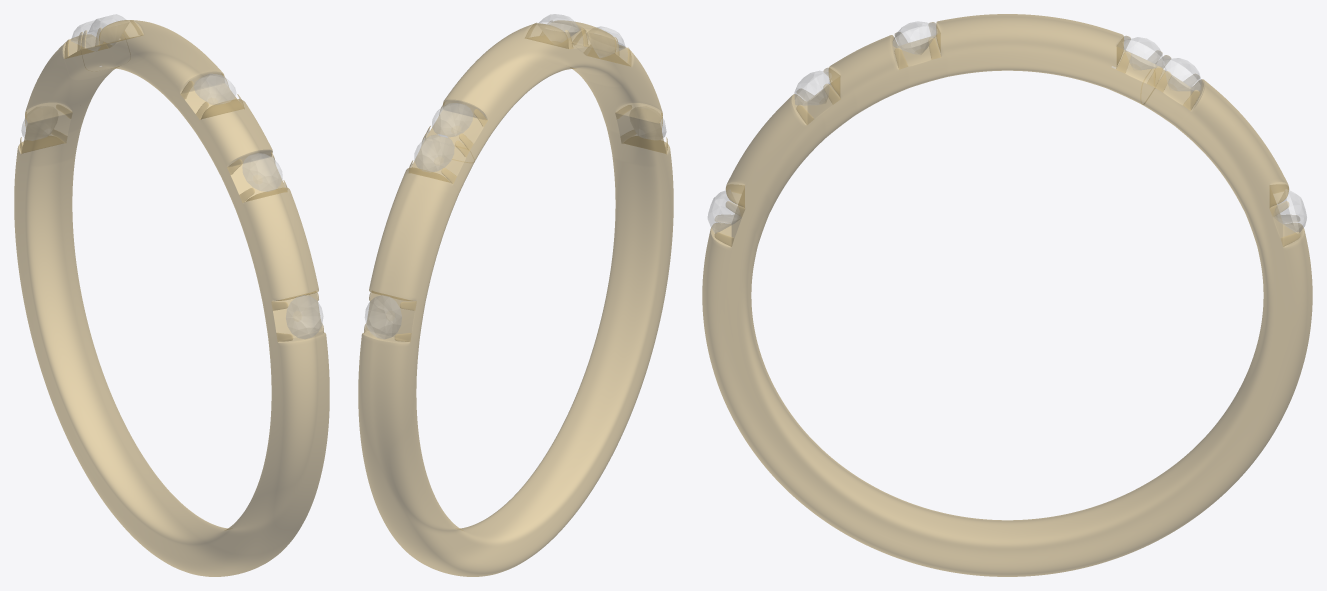
3 views of the same model, side by side, from view 1: azimuth 30°, elevation 25°; view 2: azimuth 150°, elevation 25°; view 3: azimuth 270°, elevation 25° (orthographic). The views are drawn at different scales.
Visible parts, largest first — view 1: polySurface168, polySurface164; view 2: polySurface168, polySurface164; view 3: polySurface168, polySurface164.
Boxes of the visible parts, bbox=[...] form: polySurface168: bbox=[14, 20, 329, 576]; polySurface164: bbox=[21, 14, 323, 338]; polySurface168: bbox=[358, 20, 673, 576]; polySurface164: bbox=[365, 14, 666, 338]; polySurface168: bbox=[702, 14, 1312, 576]; polySurface164: bbox=[708, 21, 1306, 233].
Size of the model in its own units: 0.2182 by 2.33 by 2.33.
